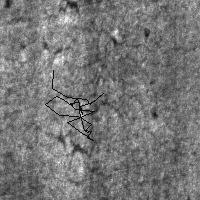crazing: (42, 24, 189, 71), (50, 91, 127, 157), (45, 70, 103, 140)
